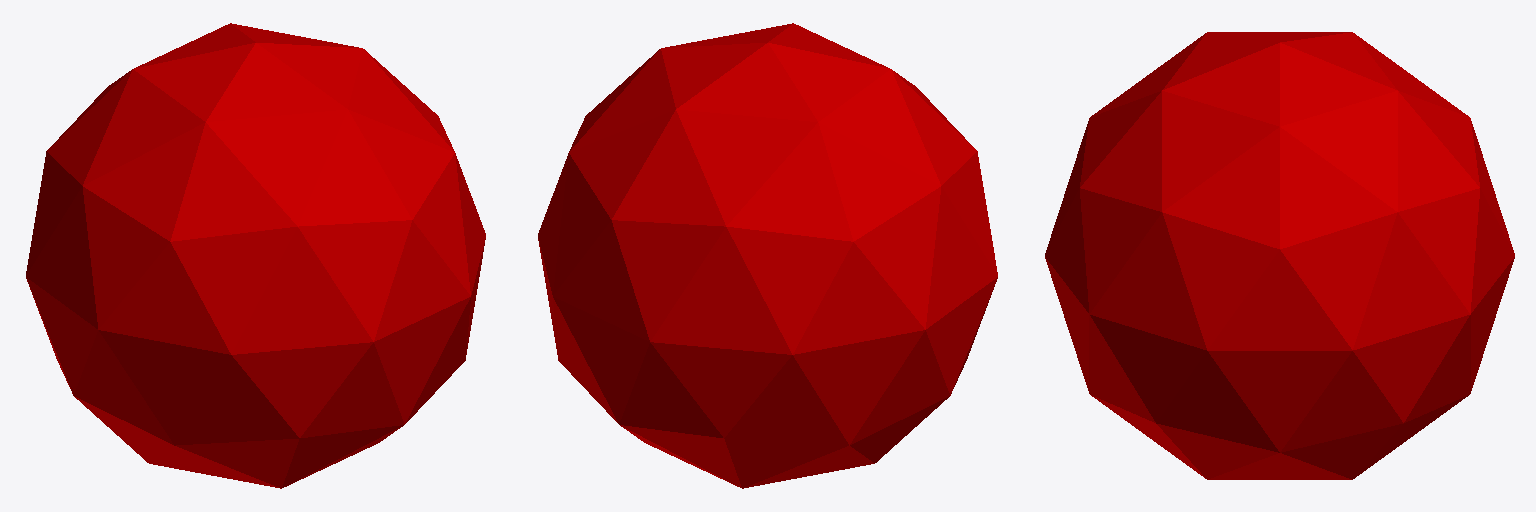
The model's file is calib_point.obj.
The picture shows the model from 3 angles: view 1: azimuth 30°, elevation 25°; view 2: azimuth 150°, elevation 25°; view 3: azimuth 270°, elevation 25°; orthographic projection.
Parts seen in each view (by area): view 1: Центр.001; view 2: Центр.001; view 3: Центр.001.
Boxes of the visible parts, box(x1,y1,x2,y2) form: Центр.001: box(26, 23, 485, 488); Центр.001: box(538, 23, 997, 488); Центр.001: box(1045, 32, 1514, 479).
Size of the model in its own units: 0.0476 by 0.05 by 0.05.